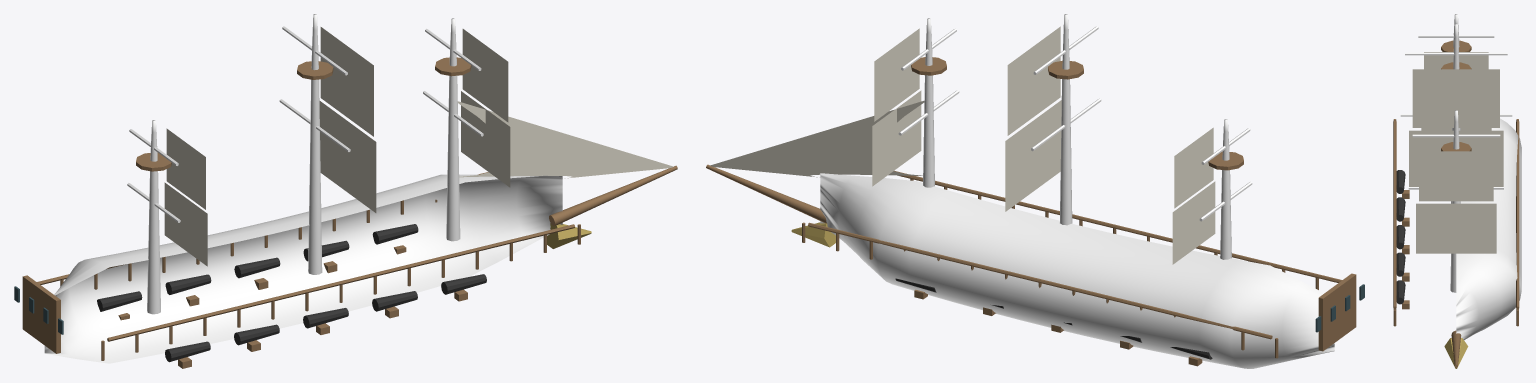
Rendered from ship_v1.glb.
3 views of the same model, side by side, from view 1: azimuth 30°, elevation 25°; view 2: azimuth 150°, elevation 25°; view 3: azimuth 270°, elevation 25° (orthographic). The views are drawn at different scales.
Visible parts, largest first — view 1: Hull, JibTopsail, Sail_MainMast_0, Sail_MainMast_1, Sail_ForeMast_0, Sail_ForeMast_1, MainMast, Sail_MizzenMast_0, ForeMast, RailTop_P, Transom, Sail_MizzenMast_1 (+13 smaller); view 2: Hull, JibTopsail, Sail_MainMast_0, Sail_MainMast_1, Sail_ForeMast_0, Sail_ForeMast_1, Sail_MizzenMast_0, RailTop_S, Sail_MizzenMast_1, Transom, MainMast, RailTop_P (+5 smaller); view 3: Hull, Sail_MainMast_1, Sail_ForeMast_0, Sail_ForeMast_1, Sail_MainMast_0, Sail_MizzenMast_1, RailTop_P, RailTop_S, ForeMast, Yardarm_MainMast_1, Yardarm_ForeMast_1, Figurehead (+12 smaller).
Part boxes in pixels (x1,y1,x2,y2): Hull: (44, 174, 562, 363); JibTopsail: (457, 101, 673, 176); Sail_MainMast_0: (319, 101, 376, 212); Sail_MainMast_1: (320, 27, 373, 136); Sail_ForeMast_0: (461, 91, 510, 187); Sail_ForeMast_1: (462, 29, 508, 122); MainMast: (308, 14, 322, 274); Sail_MizzenMast_0: (164, 182, 207, 266); ForeMast: (446, 18, 460, 241); RailTop_P: (107, 224, 574, 341); Transom: (22, 275, 60, 353); Sail_MizzenMast_1: (166, 128, 205, 209); Hull: (820, 173, 1334, 368); JibTopsail: (710, 100, 924, 175); Sail_MainMast_0: (1005, 100, 1061, 211); Sail_MainMast_1: (1007, 26, 1060, 135); Sail_ForeMast_0: (872, 90, 921, 186); Sail_ForeMast_1: (874, 28, 919, 121); Sail_MizzenMast_0: (1172, 181, 1215, 264); RailTop_S: (808, 222, 1272, 339); Sail_MizzenMast_1: (1174, 127, 1213, 208); Transom: (1318, 273, 1356, 351); MainMast: (1060, 14, 1072, 225); RailTop_P: (894, 170, 1342, 282); Hull: (1456, 118, 1521, 339); Sail_MainMast_1: (1412, 69, 1499, 127); Sail_ForeMast_0: (1416, 203, 1496, 253); Sail_ForeMast_1: (1419, 151, 1493, 201); Sail_MainMast_0: (1409, 130, 1503, 186); Sail_MizzenMast_1: (1424, 52, 1488, 69); RailTop_P: (1393, 120, 1396, 309); RailTop_S: (1516, 120, 1519, 309); ForeMast: (1450, 110, 1460, 292); Yardarm_MainMast_1: (1405, 52, 1507, 55); Yardarm_ForeMast_1: (1412, 134, 1500, 137); Figurehead: (1444, 338, 1468, 368).
Size of what is drawn, in the model's own units: 11.1 by 5.07 by 2.36.
